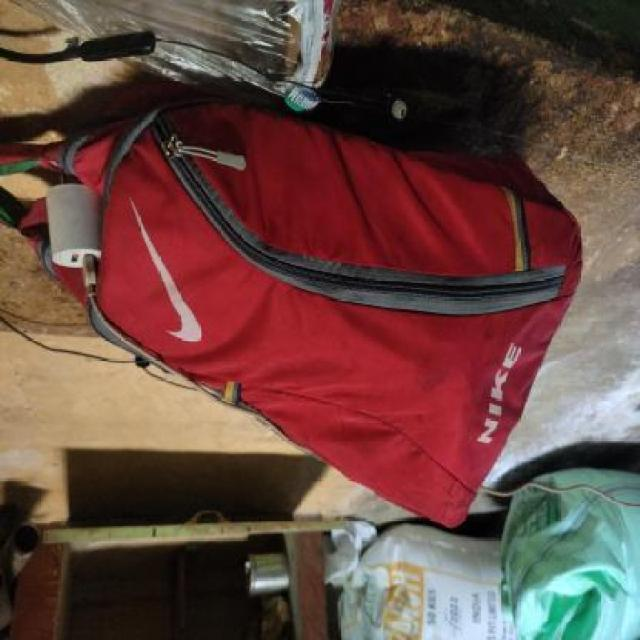backpack: (0, 94, 583, 532)
